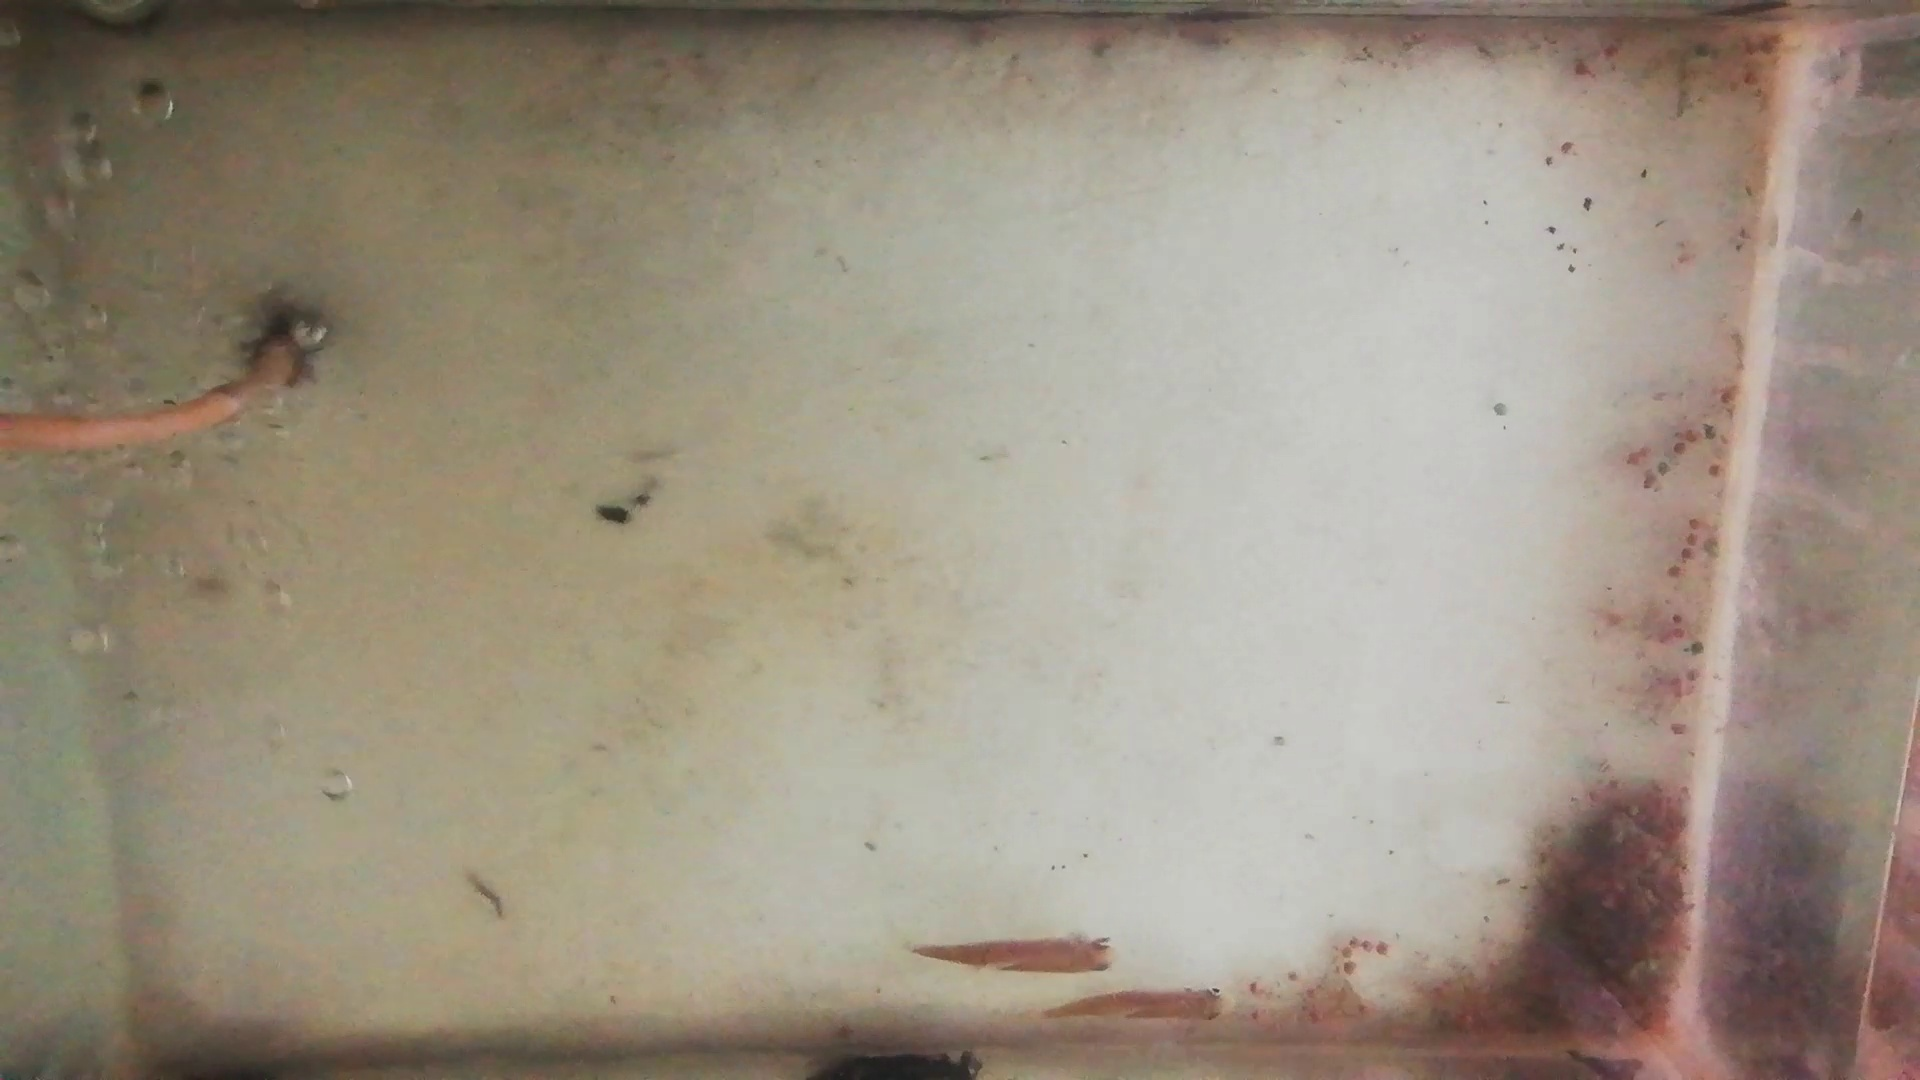fish: (907, 935, 1121, 976), (1040, 988, 1234, 1022)
